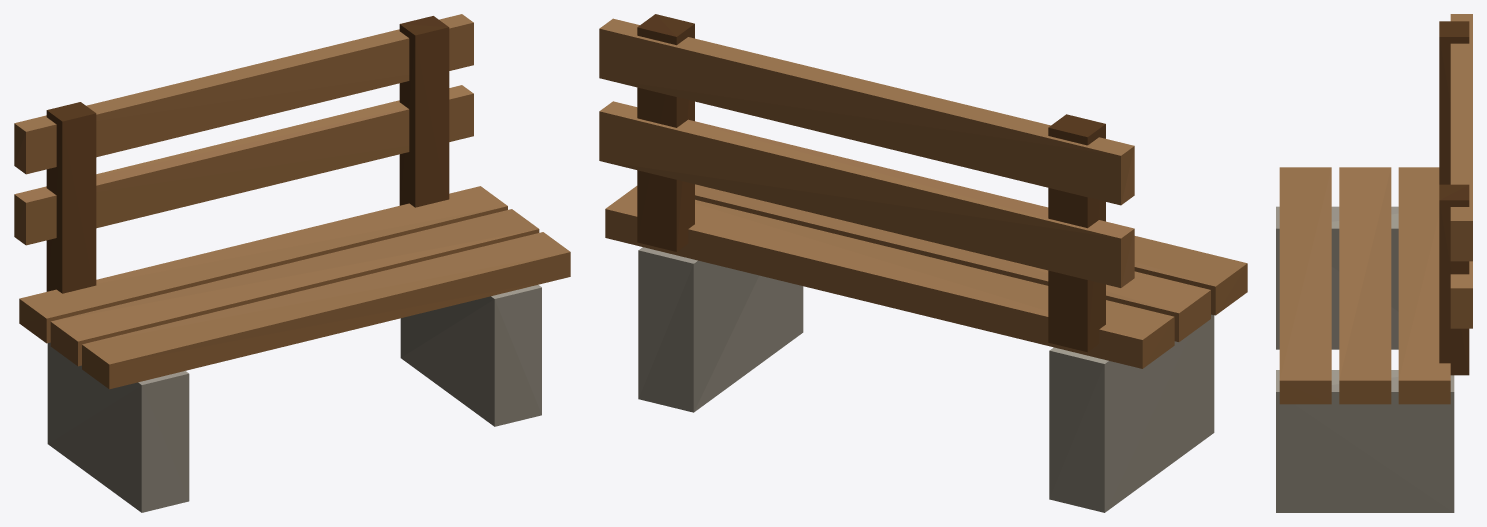
File: bench.glb
3 renders of one model, left to right at view 1: azimuth 30°, elevation 25°; view 2: azimuth 150°, elevation 25°; view 3: azimuth 270°, elevation 25°, orthographic. The views are drawn at different scales.
Parts seen in each view (by area): view 1: base; view 2: base; view 3: base.
Boxes of the visible parts, bbox=[...] form: base: bbox=[14, 14, 570, 512]; base: bbox=[599, 14, 1247, 512]; base: bbox=[1276, 14, 1472, 512].
Size of the model in its own units: 0.68 by 0.46 by 0.265.
